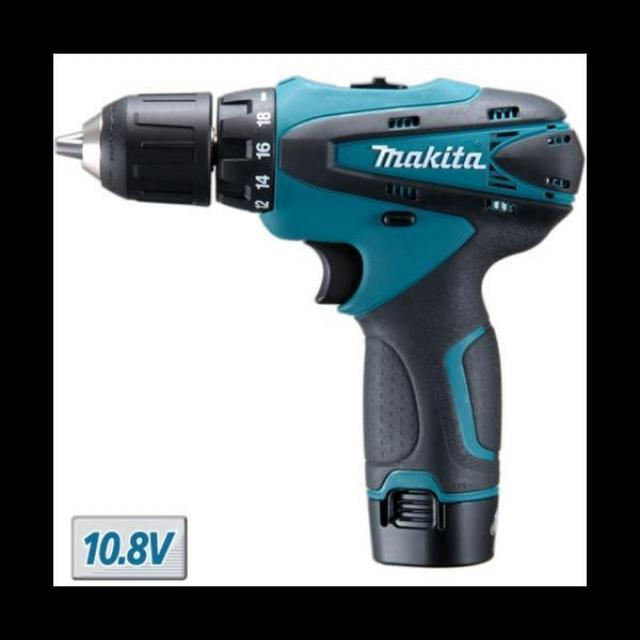drill: (55, 76, 585, 568)
